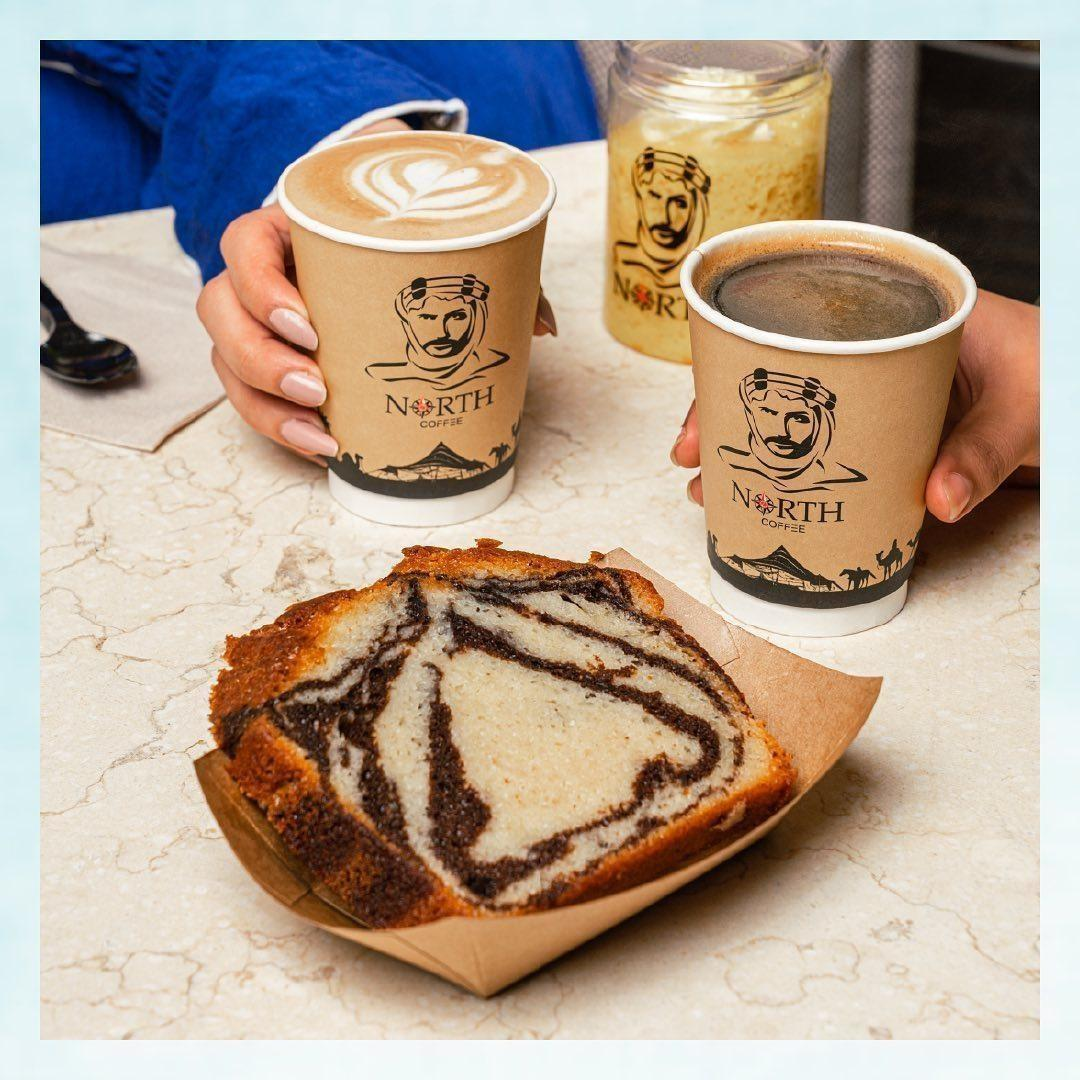cup-disposable: (666, 211, 979, 641), (279, 118, 564, 520)
